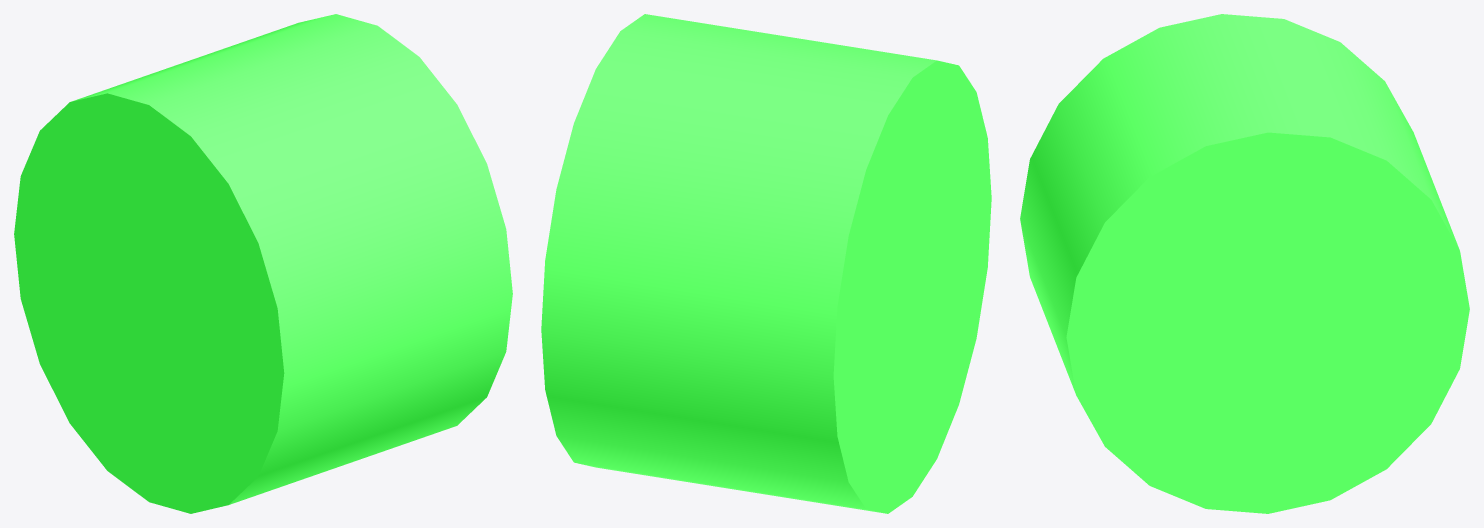
The model's file is PipeEndActive.fbx.
The picture shows the model from 3 angles, left to right: view 1: azimuth 30°, elevation 25°; view 2: azimuth 150°, elevation 25°; view 3: azimuth 270°, elevation 25°; orthographic projection. The views are drawn at different scales.
Parts seen in each view (by area): view 1: PipeEndActive; view 2: PipeEndActive; view 3: PipeEndActive.
Part boxes in pixels (x1=…): PipeEndActive: x1=14, y1=14, x2=512, y2=513; PipeEndActive: x1=541, y1=14, x2=991, y2=513; PipeEndActive: x1=1020, y1=14, x2=1469, y2=513.
Size of the model in its own units: 10.33 by 12.52 by 13.38.
